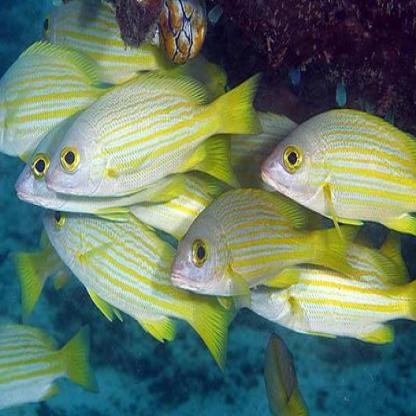snapper: (43, 69, 264, 204), (167, 183, 367, 304)
